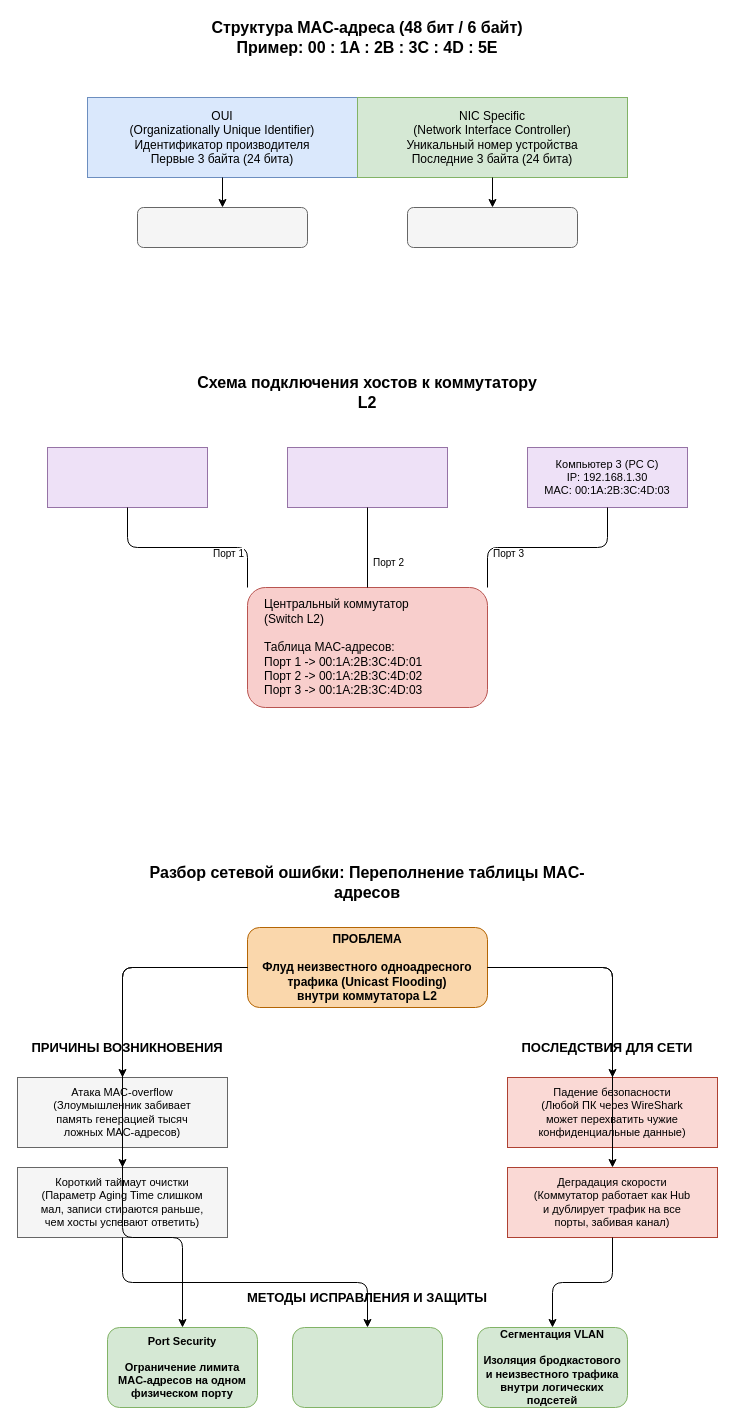
The diagram is 735 pixels wide and 1425 high, and some of its shapes have lost their labels. The shapes that lost their labels are listed below. From the top down, each one's centre as x and y in pixels, then its label:
At point (222, 227): "00 : 1A : 2B".
At point (492, 227): "3C : 4D : 5E".
At point (127, 477): "Компьютер 1 (PC A) IP: 192.168.1.10 MAC: 00:1A:2B:3C:4D:01".
At point (367, 477): "Компьютер 2 (PC B) IP: 192.168.1.20 MAC: 00:1A:2B:3C:4D:02".
At point (367, 1367): "Static Binding Ручная жесткая привязка MAC-адресов серверов к номерам портов".
